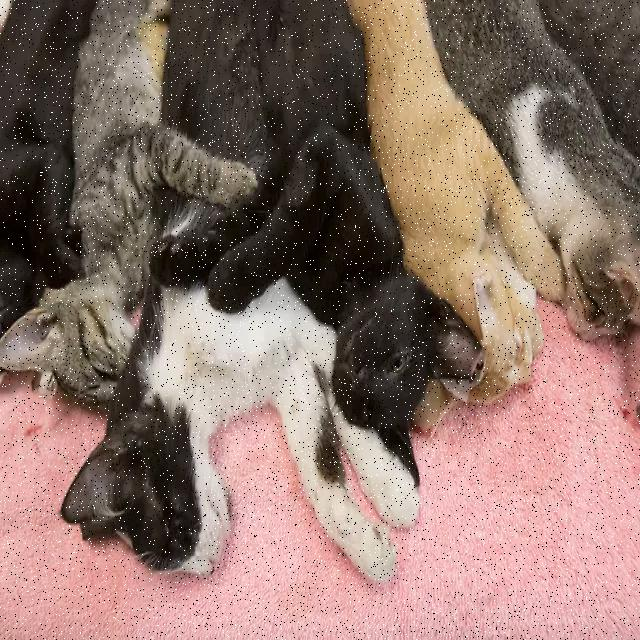cat: (156, 2, 482, 524), (0, 0, 256, 406), (61, 279, 395, 580), (349, 0, 565, 431), (426, 2, 640, 338)
